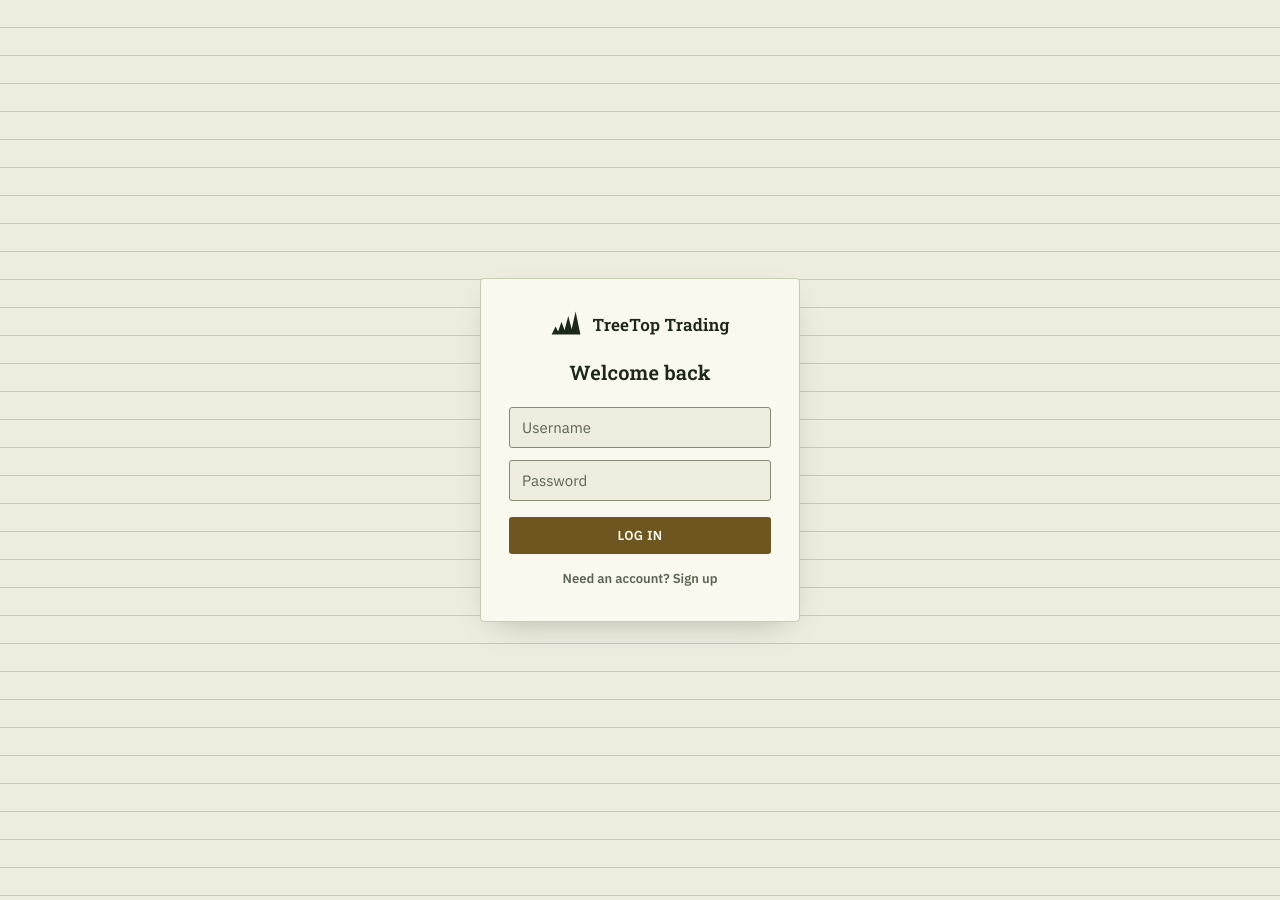
Test: Login › shows the server error message on failed login
Type "ada" into the field with placeholder "Username" at (640, 428), box [509,407,771,448]
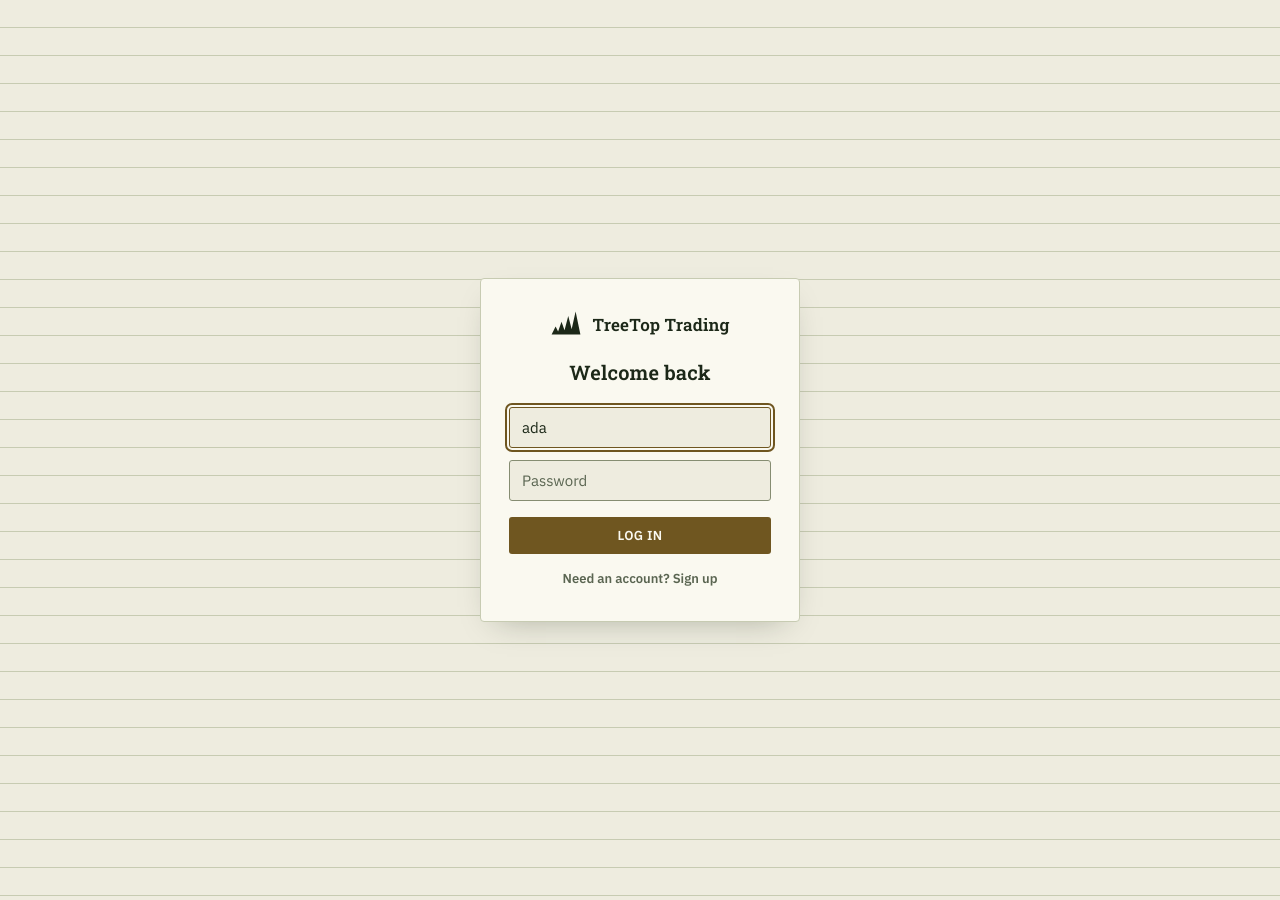
Type "password1" into the password field with placeholder "Password" at (640, 480), box [509,460,771,501]
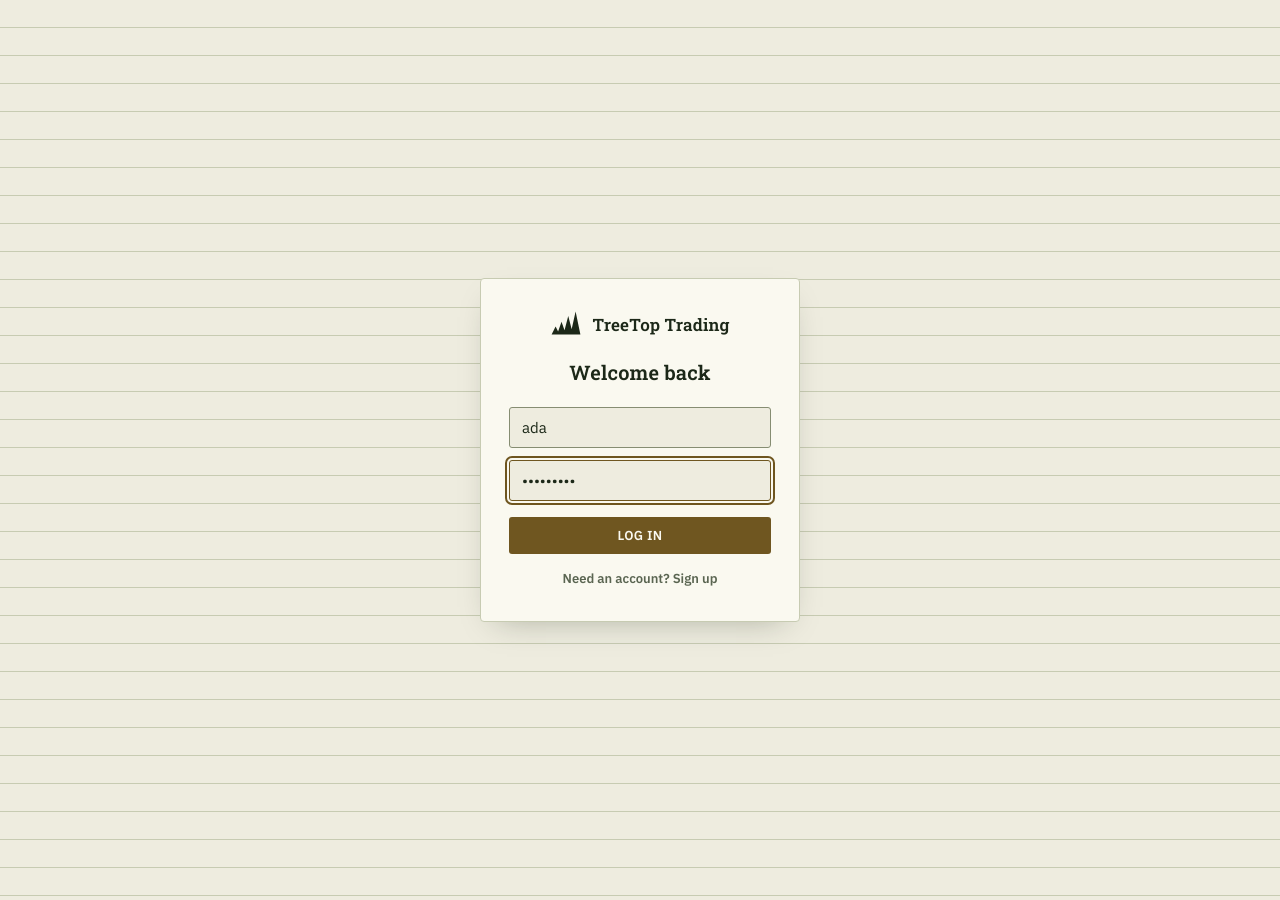
Click the button "Log In" at (640, 536), box [509,517,771,554]
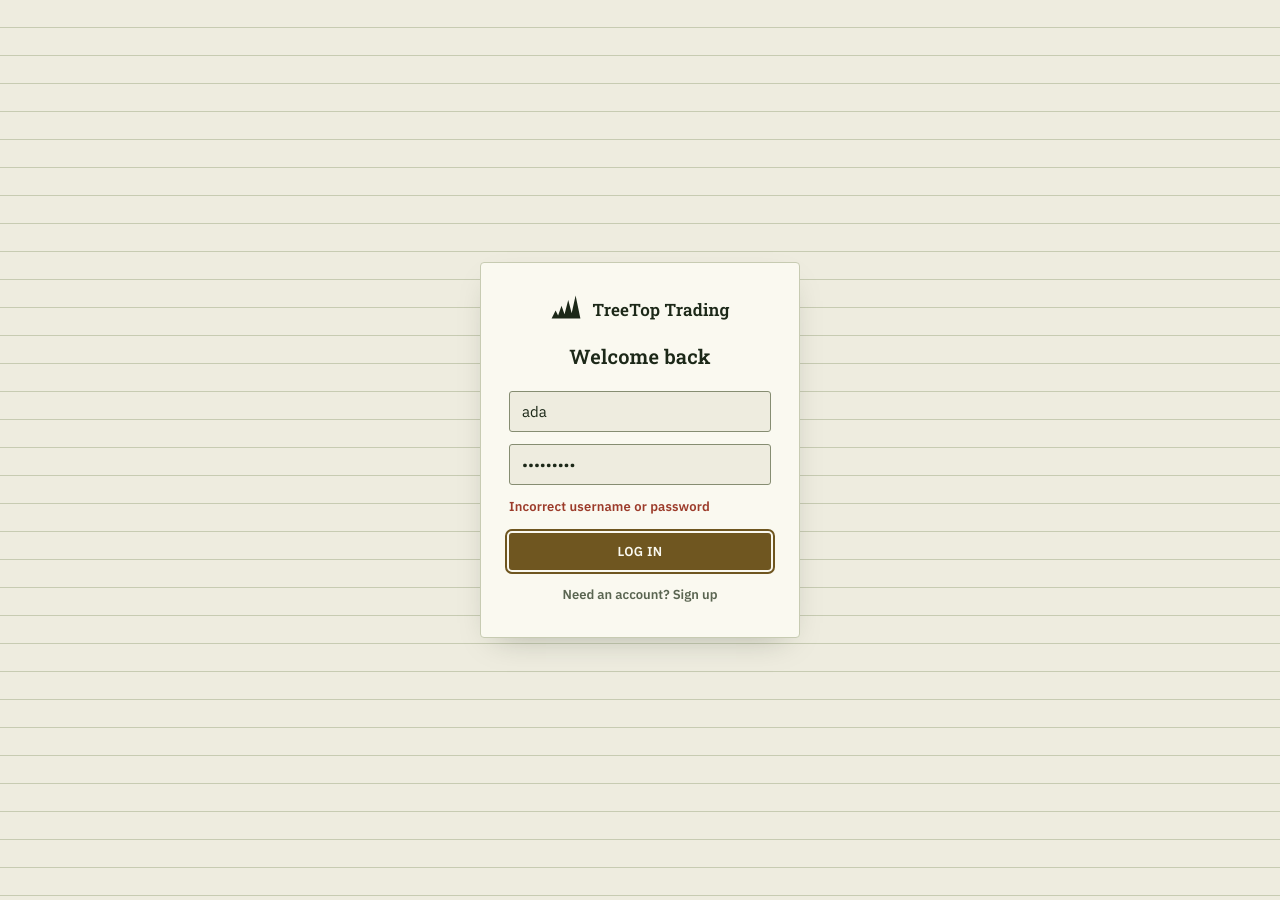
Check: the text "Incorrect username or password" is shown, box [509,498,710,515]
